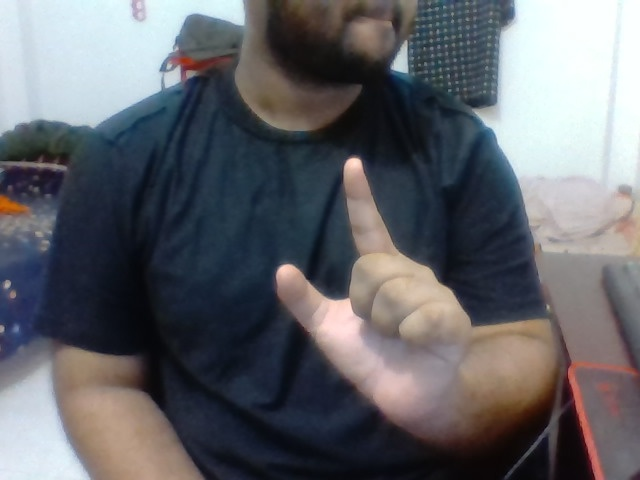J: (259, 148, 484, 414)
